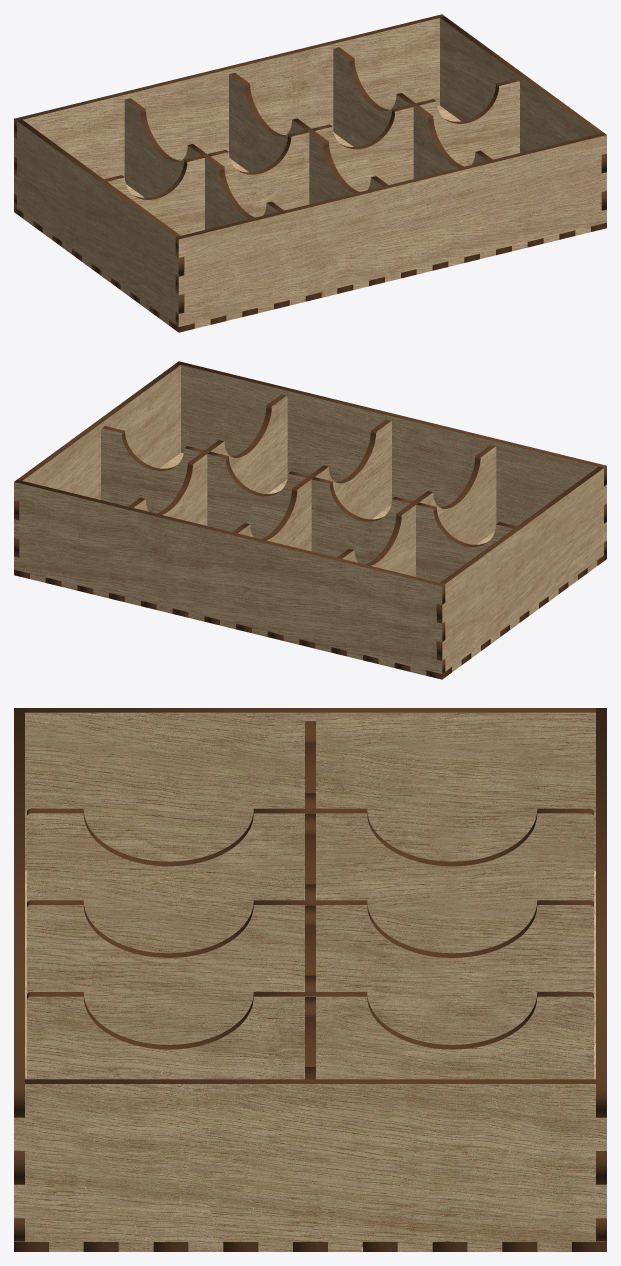
The model's file is drawer-organizer.glb.
3 renders of one model, top to bottom at view 1: azimuth 30°, elevation 25°; view 2: azimuth 150°, elevation 25°; view 3: azimuth 270°, elevation 25°, orthographic. The views are drawn at different scales.
Visible parts, largest first — view 1: body1, body2, body5, body3, body4, body8, body6, body7, body0; view 2: body2, body1, body5, body3, body4, body8, body6, body7, body0; view 3: body4, body3, body6, body7, body8, body1, body2, body0, body5.
Part boxes in pixels (box(x1,y1,x2,y2)): body1: box(175, 132, 606, 328); body2: box(14, 14, 444, 208); body5: box(104, 79, 519, 235); body3: box(14, 119, 183, 325); body4: box(440, 16, 606, 210); body8: box(333, 47, 492, 178); body6: box(124, 98, 283, 229); body7: box(229, 73, 388, 204); body0: box(14, 105, 606, 332); body2: box(14, 479, 445, 675); body1: box(176, 361, 606, 555); body5: box(101, 426, 516, 582); body3: box(437, 466, 606, 672); body4: box(14, 363, 180, 557); body8: box(128, 394, 287, 525); body6: box(337, 445, 496, 576); body7: box(232, 420, 391, 551); body0: box(14, 452, 606, 679); body4: box(14, 1079, 606, 1251); body3: box(25, 708, 595, 870); body6: box(27, 808, 593, 953); body7: box(27, 900, 593, 1044); body8: box(27, 992, 593, 1079); body1: box(14, 708, 24, 1241); body2: box(596, 708, 606, 1241); body0: box(14, 870, 606, 1251); body5: box(305, 721, 315, 1079).
Bounding box in the file's own units: 0.24 × 0.05 × 0.16.
Materials: 2 (1 with a texture image).
